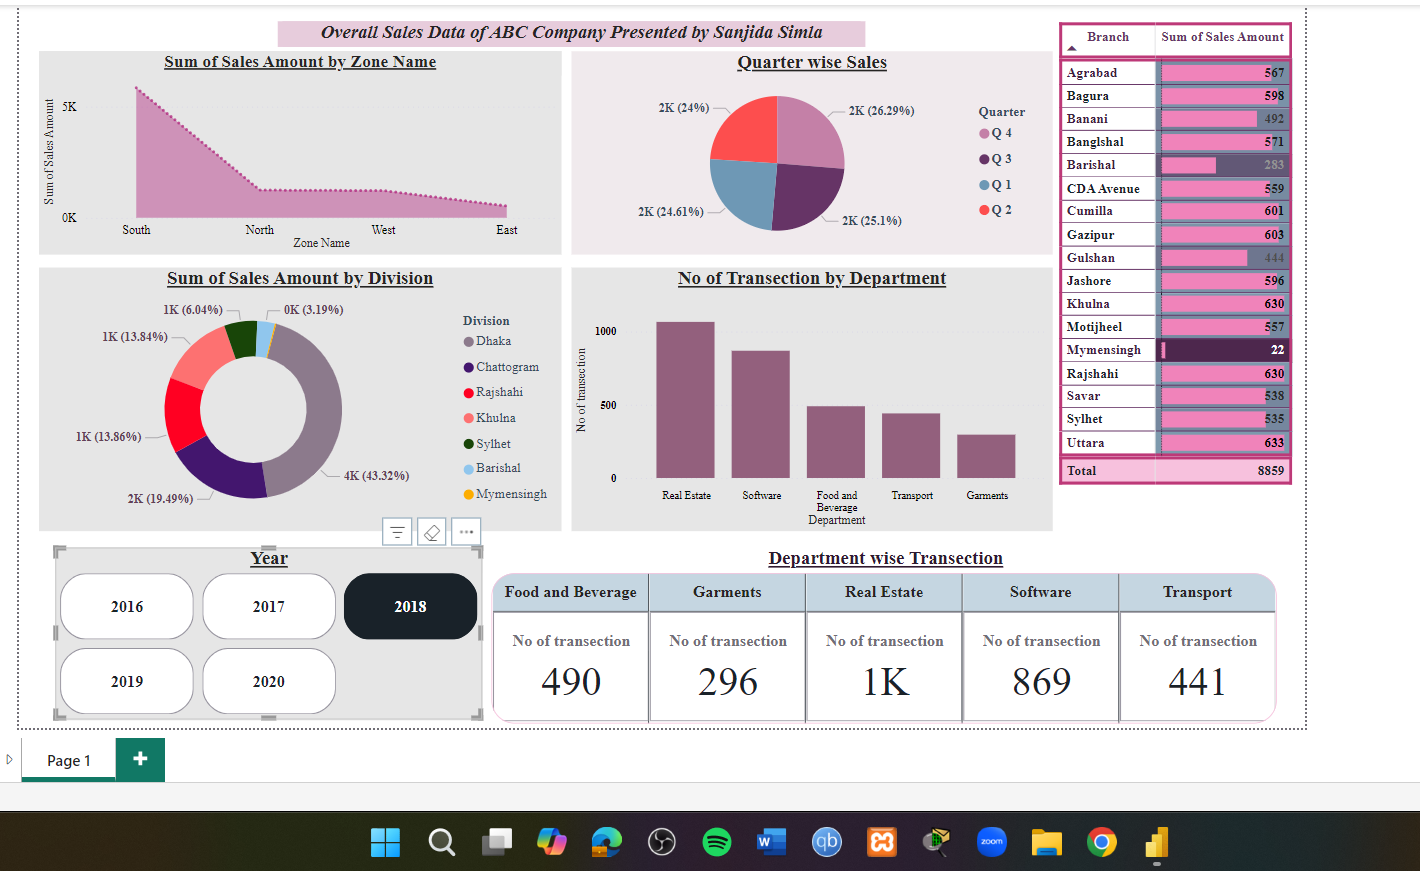

The page's visual inventory and layout, read from the dashboard file:
{"tool":"powerbi","page":{"name":"Page 1","canvas":[1280,720],"ordinal":0},"visuals":[{"type":"cardVisual","title":"Department wise Transection","fields":{"Rows":["Sales Data.Department"],"Data":["Sales Data.No of transection"]},"box":[445.3,539.9,834.7,180.4],"z":0},{"type":"pieChart","title":"Quarter wise Sales","fields":{"Category":["Sales Data.Quarter"],"Y":["Sales Data.Sales Amount"]},"box":[549.8,46,478.9,202.8],"z":1000},{"type":"donutChart","fields":{"Category":["Division.Division"],"Y":["Sales Data.Sales Amount"]},"box":[19.9,261.2,520,262.5],"z":2000},{"type":"columnChart","title":"No of Transection by Department","fields":{"Category":["Sales Data.Department"],"Y":["Sales Data.No of transection"]},"box":[549.8,261.2,478.9,262.5],"z":3000},{"type":"stackedAreaChart","fields":{"Category":["Zone.Zone Name"],"Y":["Sales Data.Sales Amount"]},"box":[19.9,46,520,202.8],"z":4000},{"type":"advancedSlicerVisual","fields":{"Values":["Sales Data.Year"]},"box":[36.1,539.9,425.4,171.7],"z":5000},{"type":"tableEx","fields":{"Values":["Sales Data.Branch","Sales Data.Sales Amount"]},"box":[1028.8,12.4,251.3,511.3],"z":6000},{"type":"textbox","title":"Overall Sales Data of ABC Company Presented by Sanjida Simla","box":[257.5,16.2,584.7,29.9],"z":6001}]}

Visuals, with their boxes on the page's 1280x720 design canvas (x1, y1, x2, y2). These are canvas units, not pixel positions in the 1420x871 screenshot, which may show the page scaled, cropped or inside an application window:
"Department wise Transection" cardVisual: {"x1": 445, "y1": 540, "x2": 1280, "y2": 720}
"Quarter wise Sales" pieChart: {"x1": 550, "y1": 46, "x2": 1029, "y2": 249}
donutChart - Division.Division x Sales Data.Sales Amount: {"x1": 20, "y1": 261, "x2": 540, "y2": 524}
"No of Transection by Department" columnChart: {"x1": 550, "y1": 261, "x2": 1029, "y2": 524}
stackedAreaChart - Zone.Zone Name x Sales Data.Sales Amount: {"x1": 20, "y1": 46, "x2": 540, "y2": 249}
advancedSlicerVisual - Sales Data.Year: {"x1": 36, "y1": 540, "x2": 462, "y2": 712}
tableEx - Sales Data.Branch x Sales Data.Sales Amount: {"x1": 1029, "y1": 12, "x2": 1280, "y2": 524}
"Overall Sales Data of ABC Company Presented by Sanjida Simla" textbox: {"x1": 258, "y1": 16, "x2": 842, "y2": 46}
